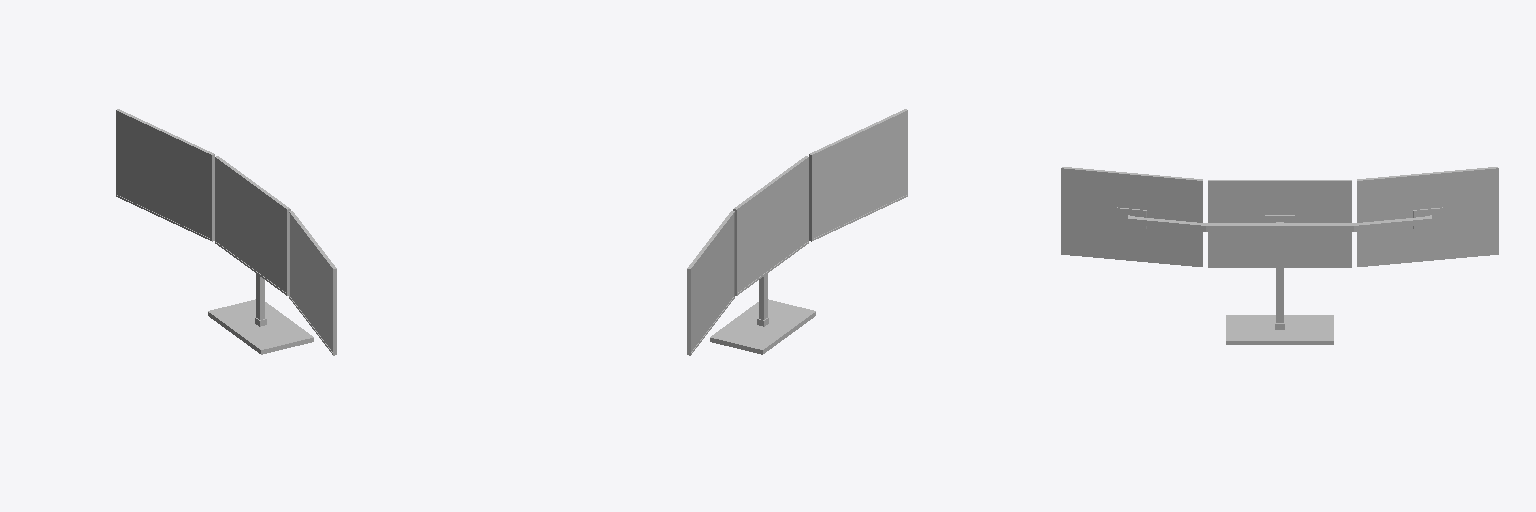
The model's file is monitors.obj.
The picture shows the model from 3 angles: view 1: azimuth 30°, elevation 25°; view 2: azimuth 150°, elevation 25°; view 3: azimuth 270°, elevation 25°; orthographic projection.
Parts seen in each view (by area): view 1: Left_Cube.006, Middle_Cube.003, Right_Cube.007, Stand_Cube.002; view 2: Right_Cube.007, Middle_Cube.003, Left_Cube.006, Stand_Cube.002; view 3: Right_Cube.007, Left_Cube.006, Middle_Cube.003, Stand_Cube.002.
Part boxes in pixels (bbox=[...]): Left_Cube.006: bbox=[116, 109, 214, 241]; Middle_Cube.003: bbox=[215, 156, 290, 295]; Right_Cube.007: bbox=[289, 211, 336, 355]; Stand_Cube.002: bbox=[208, 274, 313, 354]; Right_Cube.007: bbox=[809, 109, 907, 241]; Middle_Cube.003: bbox=[733, 156, 808, 295]; Left_Cube.006: bbox=[687, 211, 734, 355]; Stand_Cube.002: bbox=[710, 274, 815, 354]; Right_Cube.007: bbox=[1061, 167, 1202, 266]; Left_Cube.006: bbox=[1357, 167, 1498, 266]; Middle_Cube.003: bbox=[1208, 180, 1351, 267]; Stand_Cube.002: bbox=[1128, 215, 1431, 344].
Bounding box in the file's own units: 1.53 × 3.42 × 9.17.